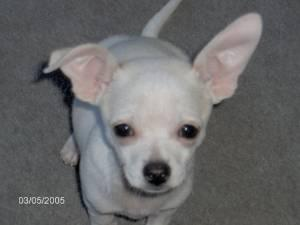dog-chihuahua: (41, 12, 262, 191)
